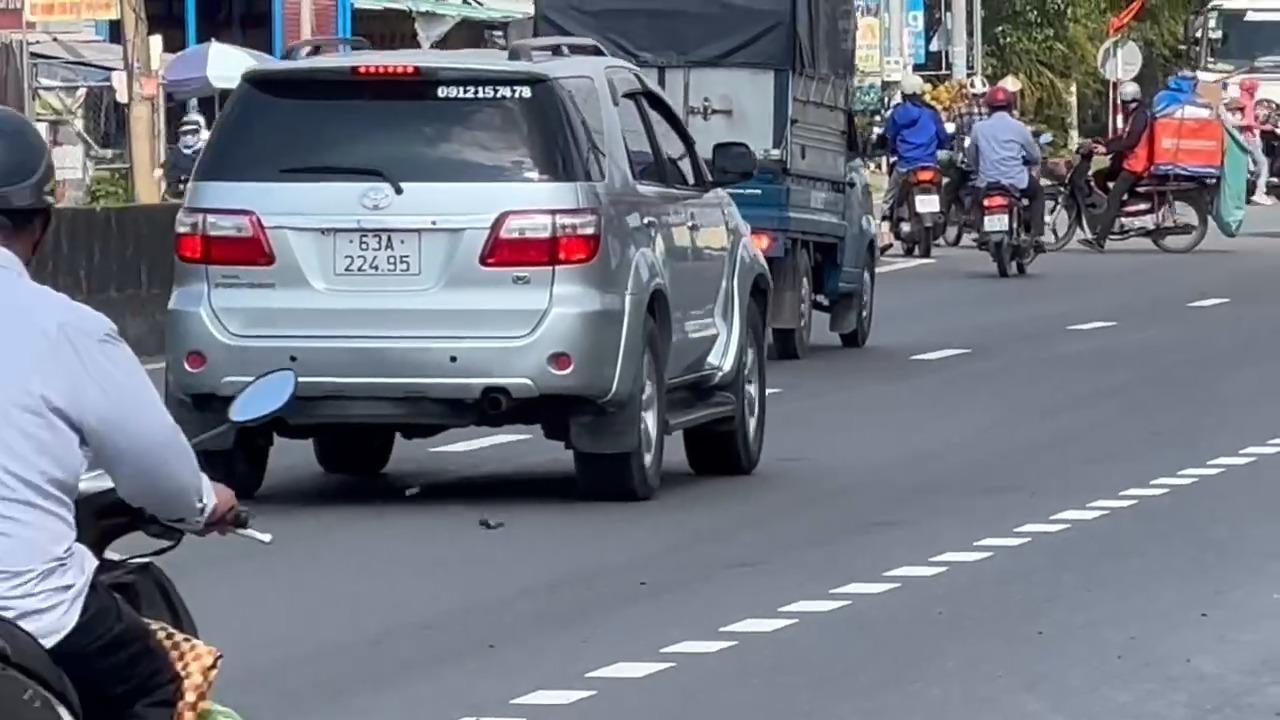bien_so: (331, 229, 421, 277)
